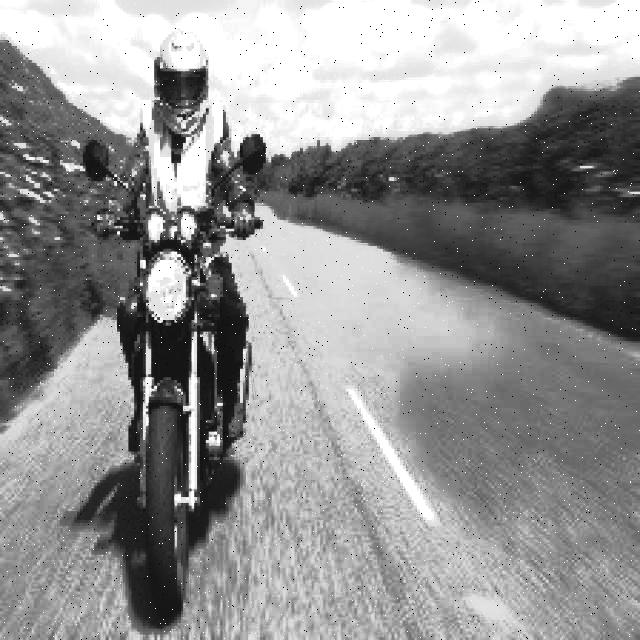Bike: (104, 179, 249, 622)
